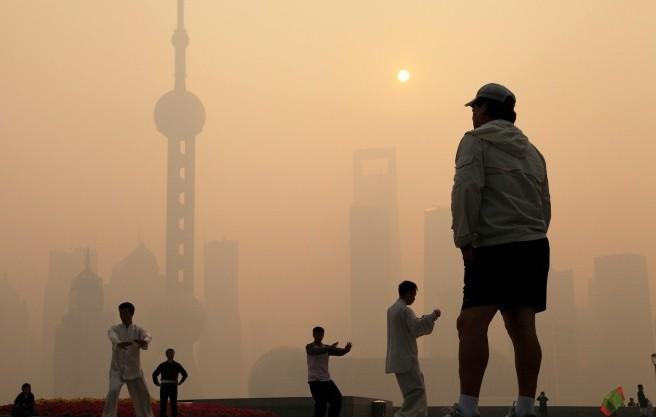person: (449, 82, 551, 417), (385, 280, 442, 417), (104, 302, 152, 417), (305, 326, 353, 417), (151, 348, 188, 417), (12, 382, 36, 417), (637, 383, 653, 416), (536, 391, 550, 417), (626, 397, 639, 417)
